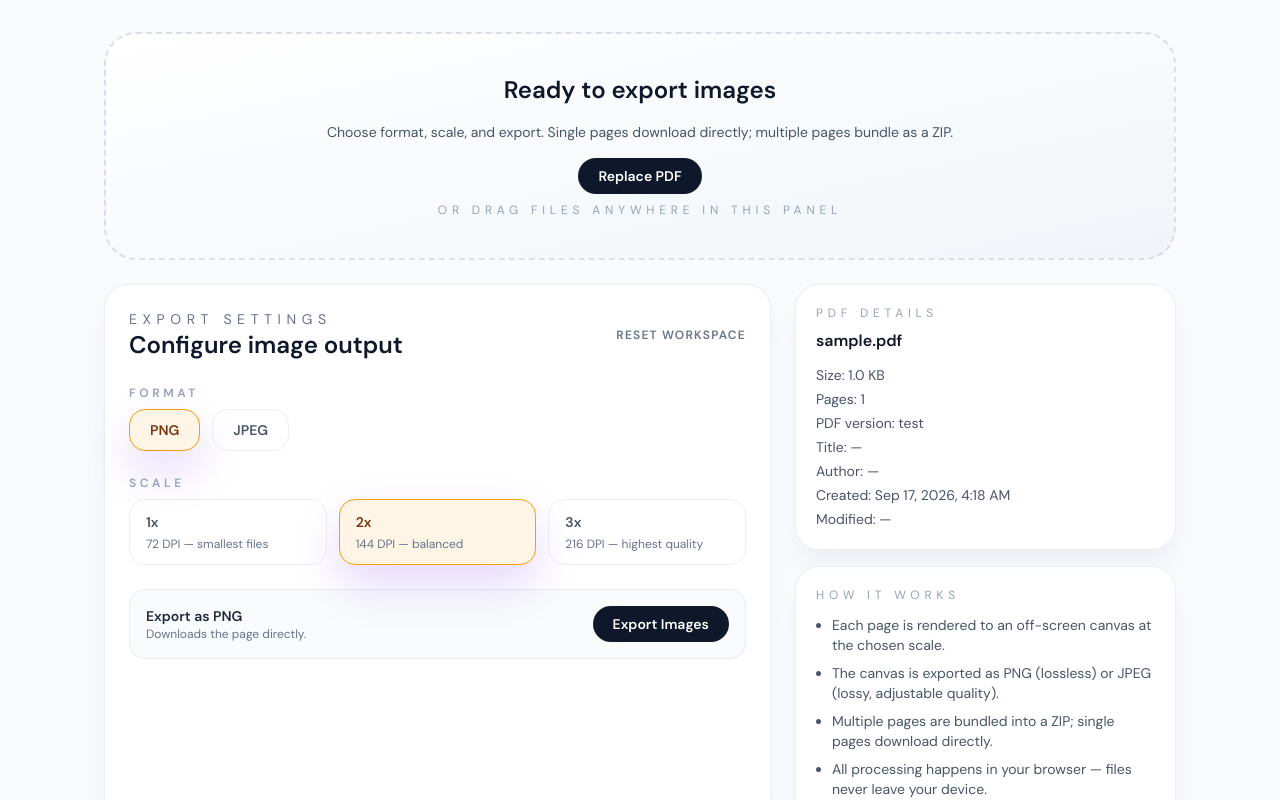
Test: PdfToImagesPage › Reset workspace while exporting › disables Reset workspace and the file input while export is in flight, and re-enables both when it finishes
Click the button "Export Images": (661, 624) [593,606,729,642]
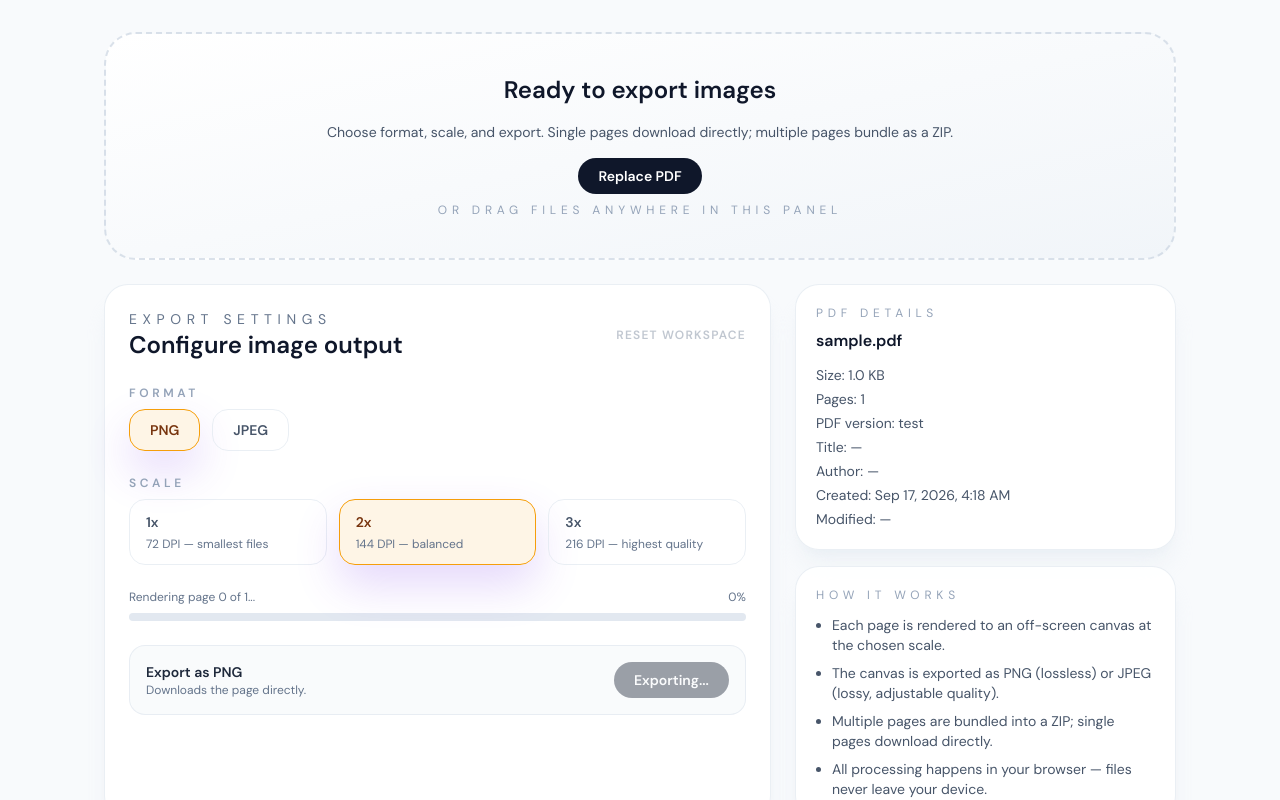
Expected: the file field labelled "Replace PDF" is disabled, [578,158,702,194]
Result: the button "Reset workspace" is disabled
Click the button "Reset workspace": (681, 335) [616,327,746,343]
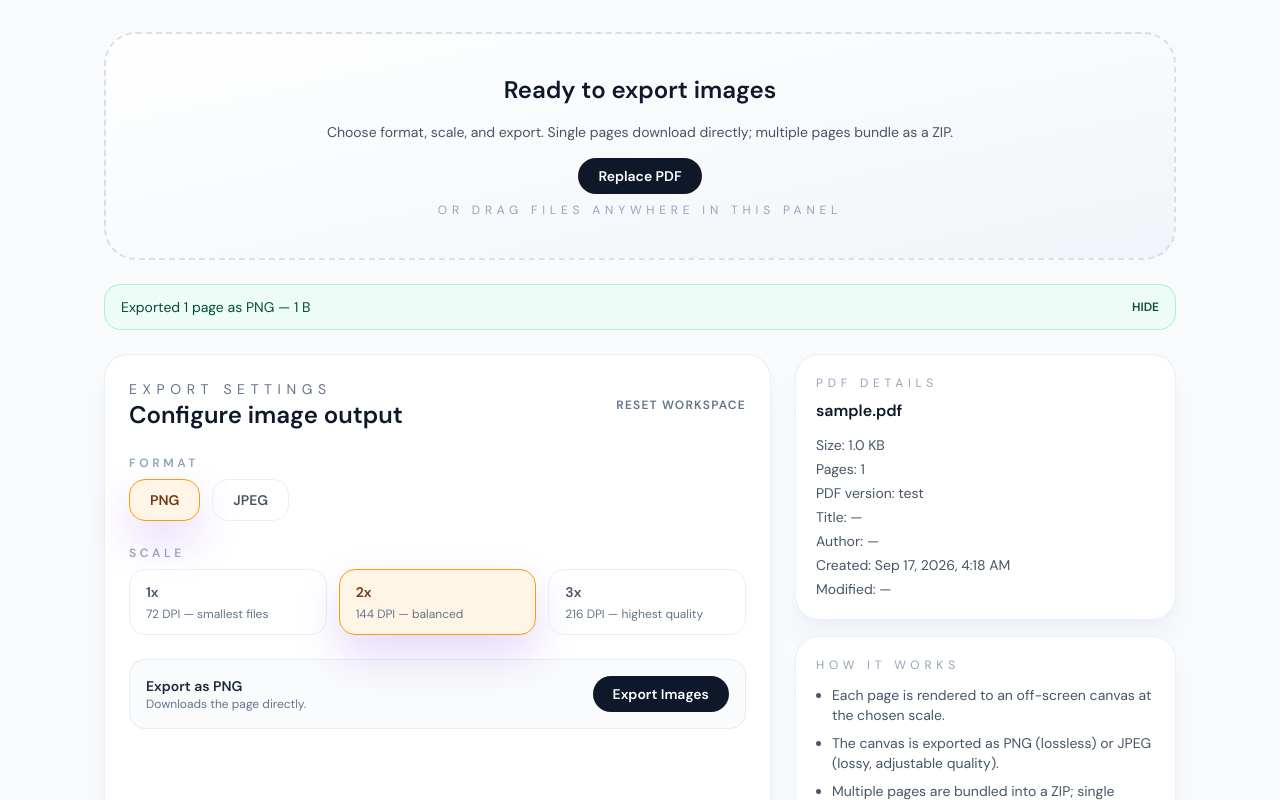
Expected: the file field labelled "Replace PDF" is enabled, [578,158,702,194]
Result: the button "Reset workspace" is enabled at [616,397,746,413]
